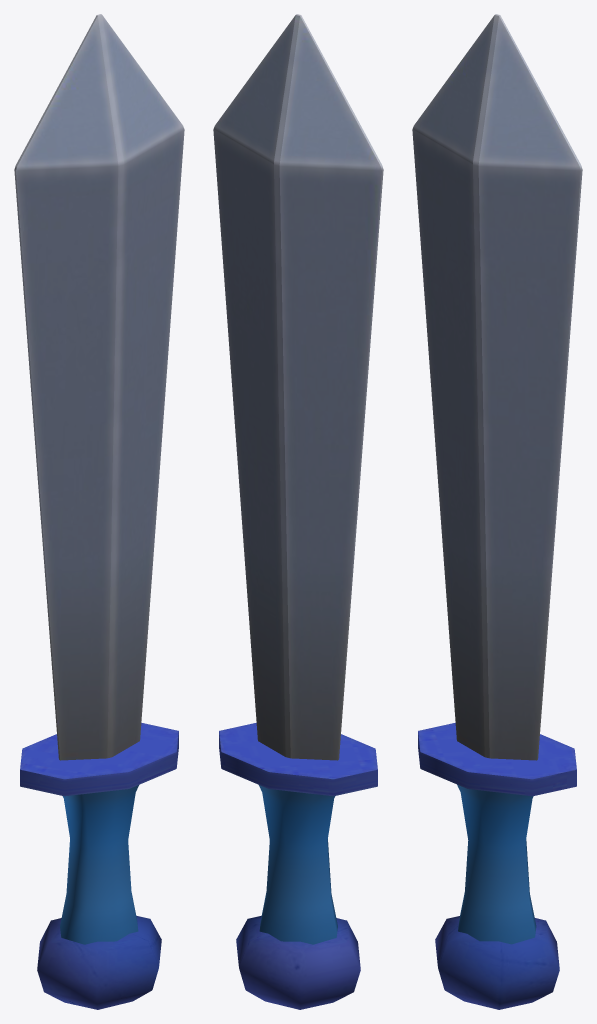
The model's file is Jian2.fbx.
The picture shows the model from 3 angles, left to right: view 1: azimuth 30°, elevation 25°; view 2: azimuth 150°, elevation 25°; view 3: azimuth 330°, elevation 25°; orthographic projection.
Visible parts, largest first — view 1: Jian; view 2: Jian; view 3: Jian.
Boxes of the visible parts, box(x1,y1,x2,y2) form: Jian: box(14, 14, 184, 1009); Jian: box(213, 14, 383, 1009); Jian: box(412, 14, 582, 1009).
Bounding box in the file's own units: 9.75 × 54.53 × 5.95.
